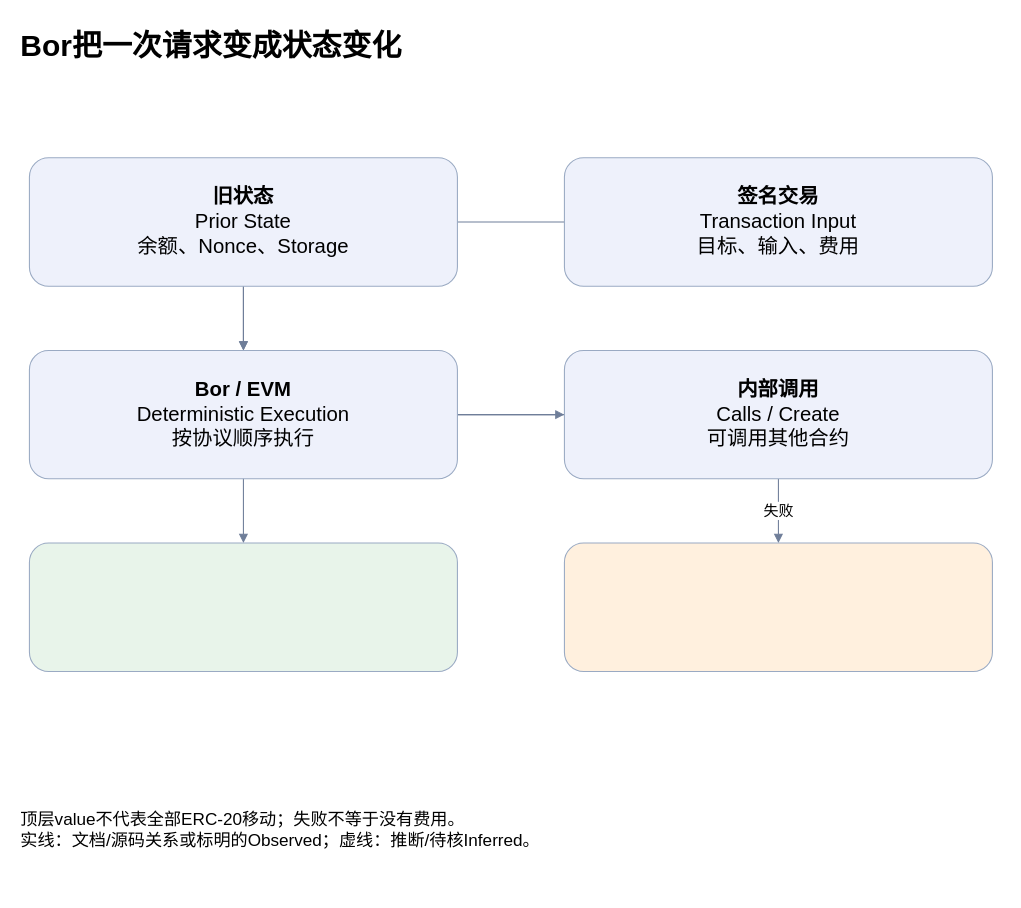
This 1021x908 diagram has some shape labels left out. The shapes that lost their labels are listed below. From the top down, each one's centre as x and y in pixels, then its label:
At pixel 242 606: "提交结果 New State + Receipt 成功状态与日志".
At pixel 777 606: "回退 Revert 状态回退，Gas仍可能消耗".
